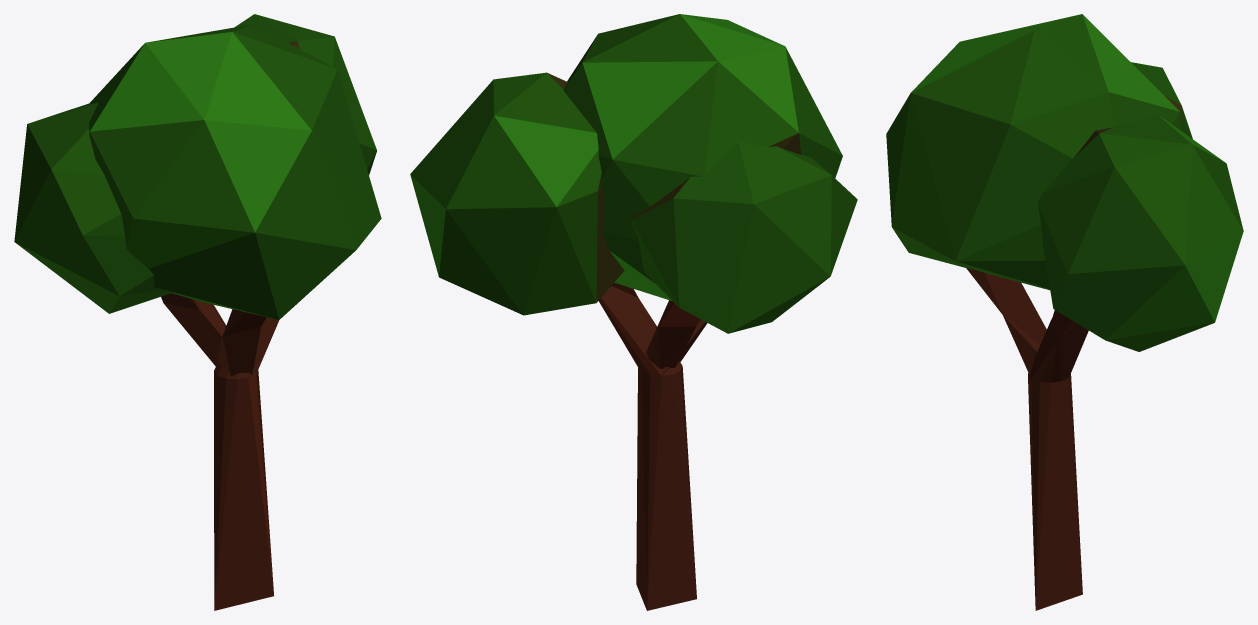
File: trädutanlampa.fbx
3 renders of one model, left to right at view 1: azimuth 30°, elevation 25°; view 2: azimuth 150°, elevation 25°; view 3: azimuth 270°, elevation 25°, orthographic. The views are drawn at different scales.
Visible parts, largest first — view 1: Cylinder; view 2: Cylinder; view 3: Cylinder.
Part boxes in pixels (<box>): Cylinder: <box>14,14,381,610</box>; Cylinder: <box>410,14,857,610</box>; Cylinder: <box>886,14,1243,610</box>.
Bounding box in the file's own units: 1177 × 1731 × 1001.
